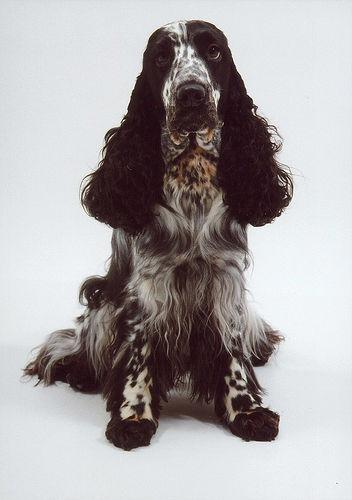dog-english_cocker_spaniel: (82, 18, 283, 232)
